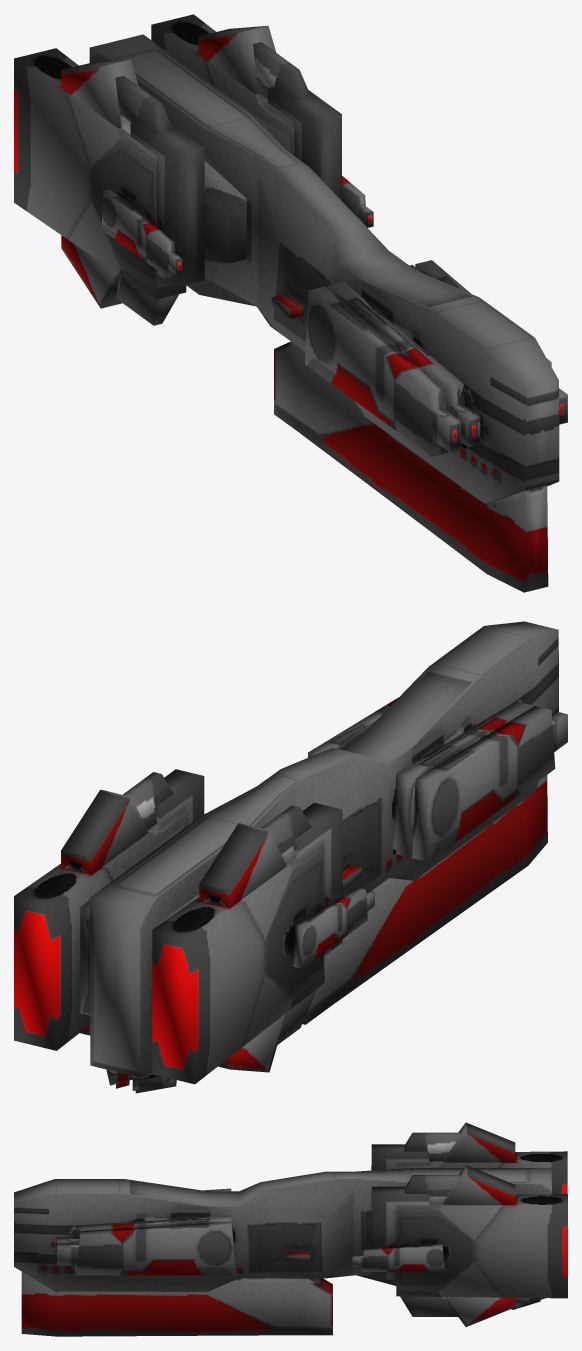
File: red_spaceship_01.fbx
3 views of the same model, one above another, from view 1: azimuth 30°, elevation 25°; view 2: azimuth 150°, elevation 25°; view 3: azimuth 270°, elevation 25° (orthographic). The views are drawn at different scales.
Visible parts, largest first — view 1: RSCruiserMod; view 2: RSCruiserMod; view 3: RSCruiserMod.
Boxes of the visible parts, bbox=[...] form: RSCruiserMod: bbox=[14, 14, 567, 592]; RSCruiserMod: bbox=[14, 621, 567, 1093]; RSCruiserMod: bbox=[14, 1122, 567, 1336].
Bounding box in the file's own units: 1666 × 6308 × 2287.
1 material, 1 textured.
